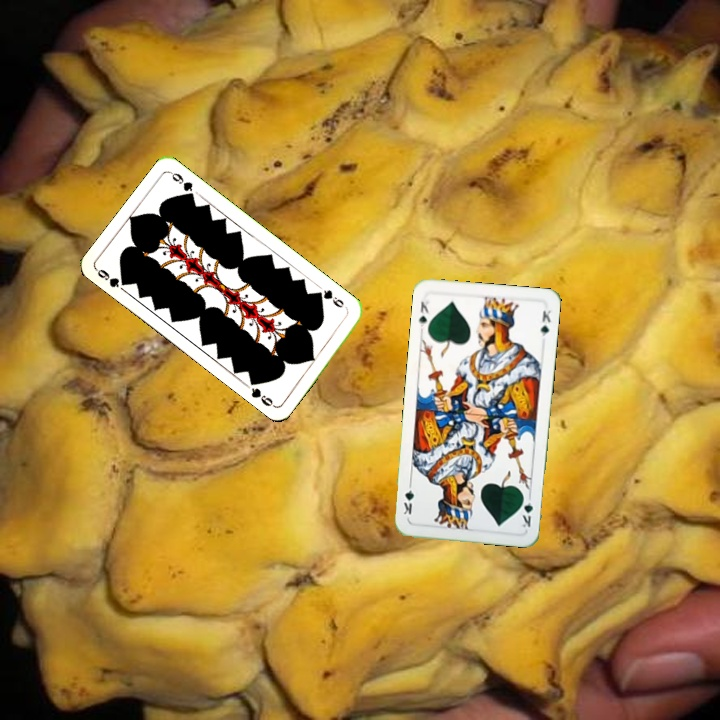G9: (92, 265, 131, 290), (313, 285, 347, 311)
GK: (518, 490, 535, 530), (415, 297, 432, 330)
